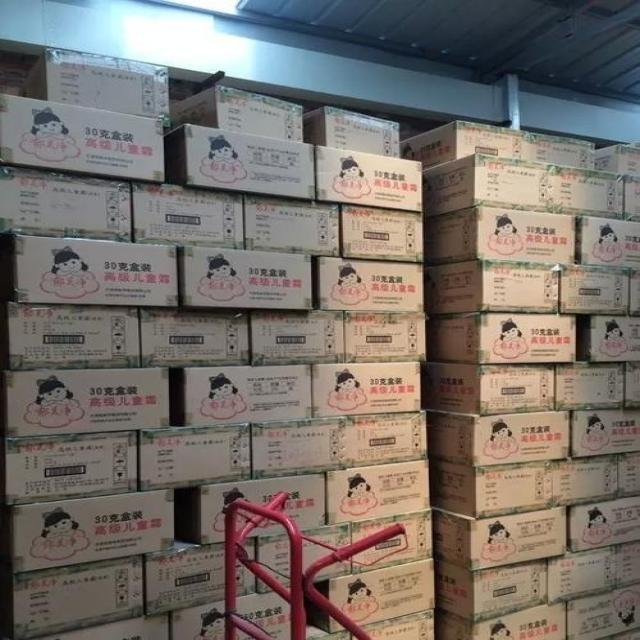box: (0, 91, 168, 184), (10, 489, 177, 573), (0, 234, 180, 309), (17, 45, 170, 128), (9, 554, 147, 640), (9, 367, 169, 439), (168, 125, 316, 201), (174, 474, 328, 544), (5, 431, 141, 507), (0, 168, 134, 243), (177, 245, 314, 314), (431, 506, 570, 574), (166, 365, 314, 428), (424, 207, 579, 265), (9, 303, 145, 369), (420, 155, 553, 221), (426, 410, 573, 467), (163, 85, 305, 144), (315, 559, 435, 628), (428, 313, 580, 366), (138, 425, 253, 492), (132, 183, 247, 249), (424, 261, 561, 316), (428, 460, 553, 520), (315, 146, 425, 213), (435, 558, 550, 621), (424, 361, 557, 415), (311, 256, 425, 314), (328, 461, 430, 525), (141, 307, 248, 368), (250, 418, 351, 481), (141, 544, 225, 619), (315, 365, 424, 422), (401, 121, 530, 169), (315, 364, 422, 420), (244, 196, 342, 256), (348, 511, 433, 577), (248, 312, 346, 368), (434, 600, 570, 640), (338, 204, 426, 264), (302, 107, 402, 159), (347, 411, 428, 471), (342, 312, 425, 365), (568, 496, 640, 553), (547, 546, 617, 604), (550, 454, 622, 510), (548, 168, 623, 221), (13, 615, 172, 640), (567, 586, 640, 640), (554, 363, 627, 414), (571, 407, 640, 459), (576, 216, 640, 271), (561, 267, 630, 318), (579, 316, 640, 364), (357, 607, 438, 640), (526, 133, 595, 171), (297, 528, 351, 574), (237, 593, 289, 639), (172, 598, 228, 640), (259, 533, 291, 589), (305, 591, 344, 635), (591, 144, 640, 176), (614, 542, 640, 589), (311, 555, 353, 582), (618, 452, 640, 500), (621, 172, 640, 224), (623, 362, 640, 409), (236, 560, 257, 598), (248, 523, 289, 539), (627, 271, 640, 318)
